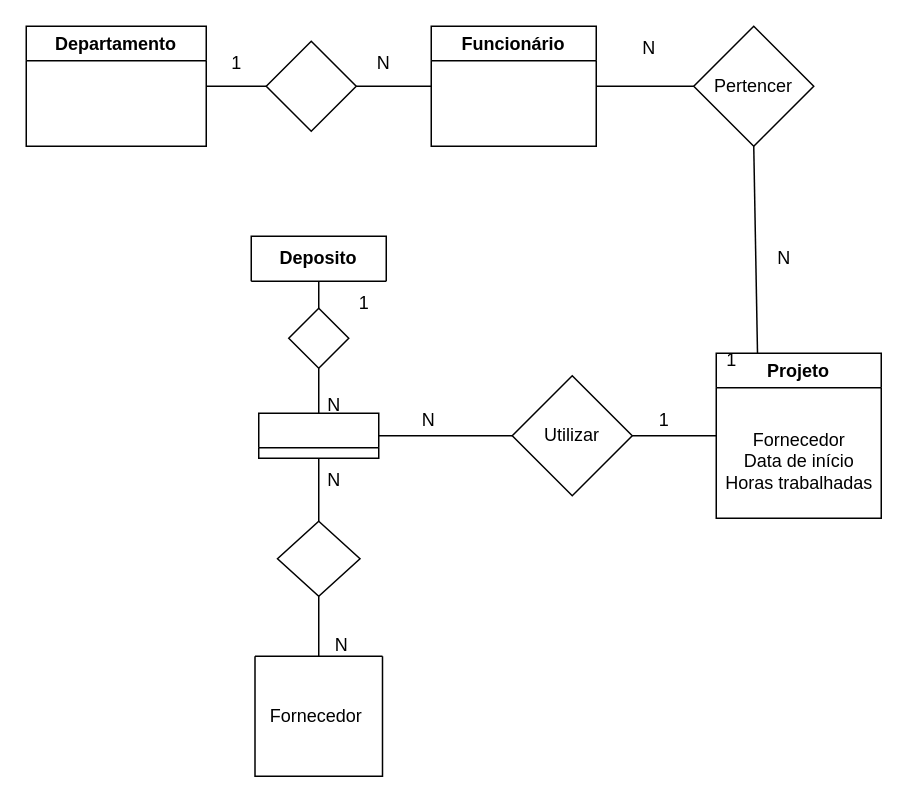
This 915x803 diagram has some shape labels left out. The shapes that lost their labels are listed below. From the top down, each one's centre as x and y in pixels, then its label:
At point 310,85: "Estar".
At point 318,337: "Conter".
At point 318,435: "Peças".
At point 318,558: "Fornecer".
